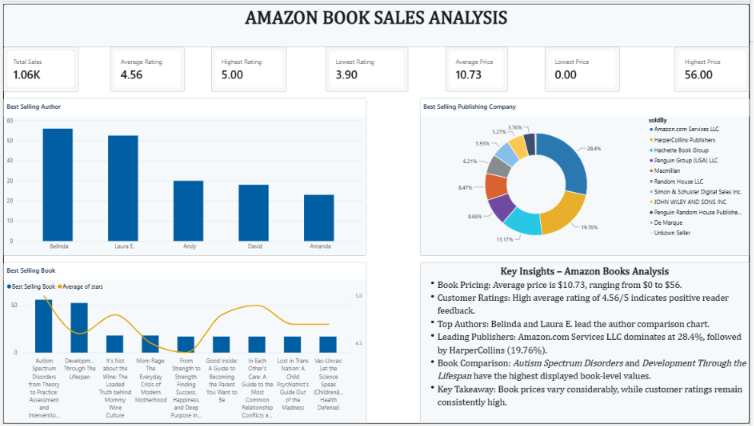

This screenshot's page, from the dashboard's own definition file:
{"tool":"powerbi","page":{"name":"Page 1","canvas":[1920,1080],"ordinal":0},"visuals":[{"type":"cardVisual","fields":{"Data":["Sheet2.Total Sales"]},"box":[0,111.1,193.5,137.9],"z":0},{"type":"cardVisual","fields":{"Data":["Sheet2.Average Rating"]},"box":[275.8,111.1,191.4,137.9],"z":1000},{"type":"cardVisual","fields":{"Data":["Sheet2.Highest Rating"]},"box":[535.2,111.1,193.5,137.9],"z":2000},{"type":"cardVisual","fields":{"Data":["Sheet2.Lowest Rating"]},"box":[829.5,111.1,212,137.9],"z":3000},{"type":"cardVisual","fields":{"Data":["Sheet2.Average Price"]},"box":[1138.3,111.1,160.5,137.9],"z":4000},{"type":"cardVisual","fields":{"Data":["Sheet2.Lowest Price"]},"box":[1393.5,111.1,193.5,137.9],"z":5000},{"type":"cardVisual","fields":{"Data":["Sheet2.Highest Price"]},"box":[1726.9,111.1,193.5,144.1],"z":6000},{"type":"clusteredColumnChart","title":"Best Selling Author ","fields":{"Category":["Sheet2.First Name"],"Y":["Sheet2.Total Sales"]},"box":[0,273.8,934.5,405.5],"z":7000},{"type":"lineClusteredColumnComboChart","title":"Best Selling Book ","fields":{"Category":["Sheet2.title"],"Y":["Sheet2.Total Sales"],"Y2":["Avg(Sheet2.stars)"]},"box":[0,701.9,934.5,378.7],"z":8000},{"type":"donutChart","title":"Best Selling Publishing Company","fields":{"Category":["Sheet2.soldBy"],"Y":["Sheet2.Total Sales"]},"box":[969.5,273.8,848,405.5],"z":9000},{"type":"textbox","box":[0,0,1920.4,111.1],"z":10000},{"type":"textbox","box":[969,702,848,378],"z":11000}]}

Visuals, with their boxes in screenshot pixels (x1, y1, x2, y2), scaled from the page's 1920x1080 canvas onto the 754x426 screenshot:
cardVisual - Sheet2.Total Sales: detection(0, 44, 76, 98)
cardVisual - Sheet2.Average Rating: detection(108, 44, 183, 98)
cardVisual - Sheet2.Highest Rating: detection(210, 44, 286, 98)
cardVisual - Sheet2.Lowest Rating: detection(326, 44, 409, 98)
cardVisual - Sheet2.Average Price: detection(447, 44, 510, 98)
cardVisual - Sheet2.Lowest Price: detection(547, 44, 623, 98)
cardVisual - Sheet2.Highest Price: detection(678, 44, 753, 101)
"Best Selling Author " clusteredColumnChart: detection(0, 108, 367, 268)
"Best Selling Book " lineClusteredColumnComboChart: detection(0, 277, 367, 425)
"Best Selling Publishing Company" donutChart: detection(381, 108, 714, 268)
textbox: detection(0, 0, 753, 44)
textbox: detection(381, 277, 714, 425)
